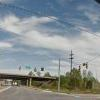Bridge: (3, 61, 57, 89)
